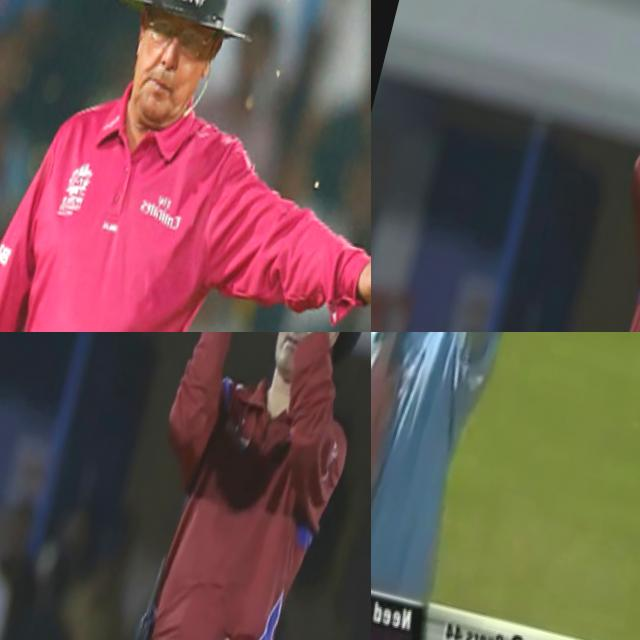No_Ball: (0, 0, 371, 332)
Out: (371, 332, 574, 635)
Six: (71, 332, 371, 640), (520, 0, 640, 332)
